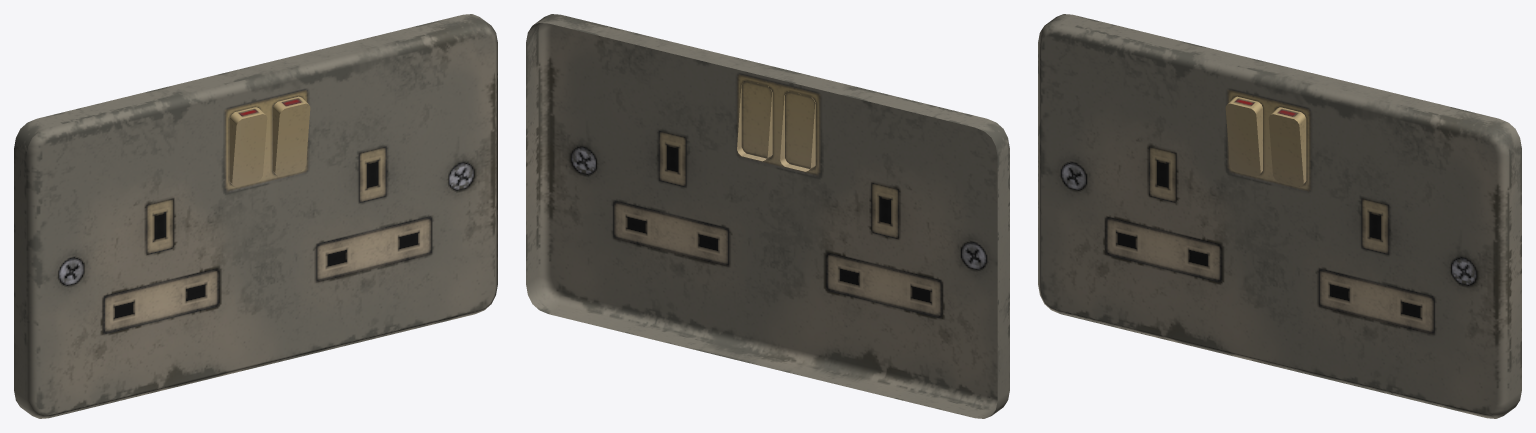
Rendered from M_Wall_Socket_02.FBX.
The picture shows the model from 3 angles, left to right: view 1: azimuth 30°, elevation 25°; view 2: azimuth 150°, elevation 25°; view 3: azimuth 330°, elevation 25°; orthographic projection.
Visible parts, largest first — view 1: M_Wall_Socket_02; view 2: M_Wall_Socket_02; view 3: M_Wall_Socket_02.
Part boxes in pixels (x1,y1,x2,y2): M_Wall_Socket_02: (14,14,497,418); M_Wall_Socket_02: (526,14,1009,418); M_Wall_Socket_02: (1038,14,1521,418).
Bounding box in the file's own units: 14.6 × 1.29 × 8.6.
